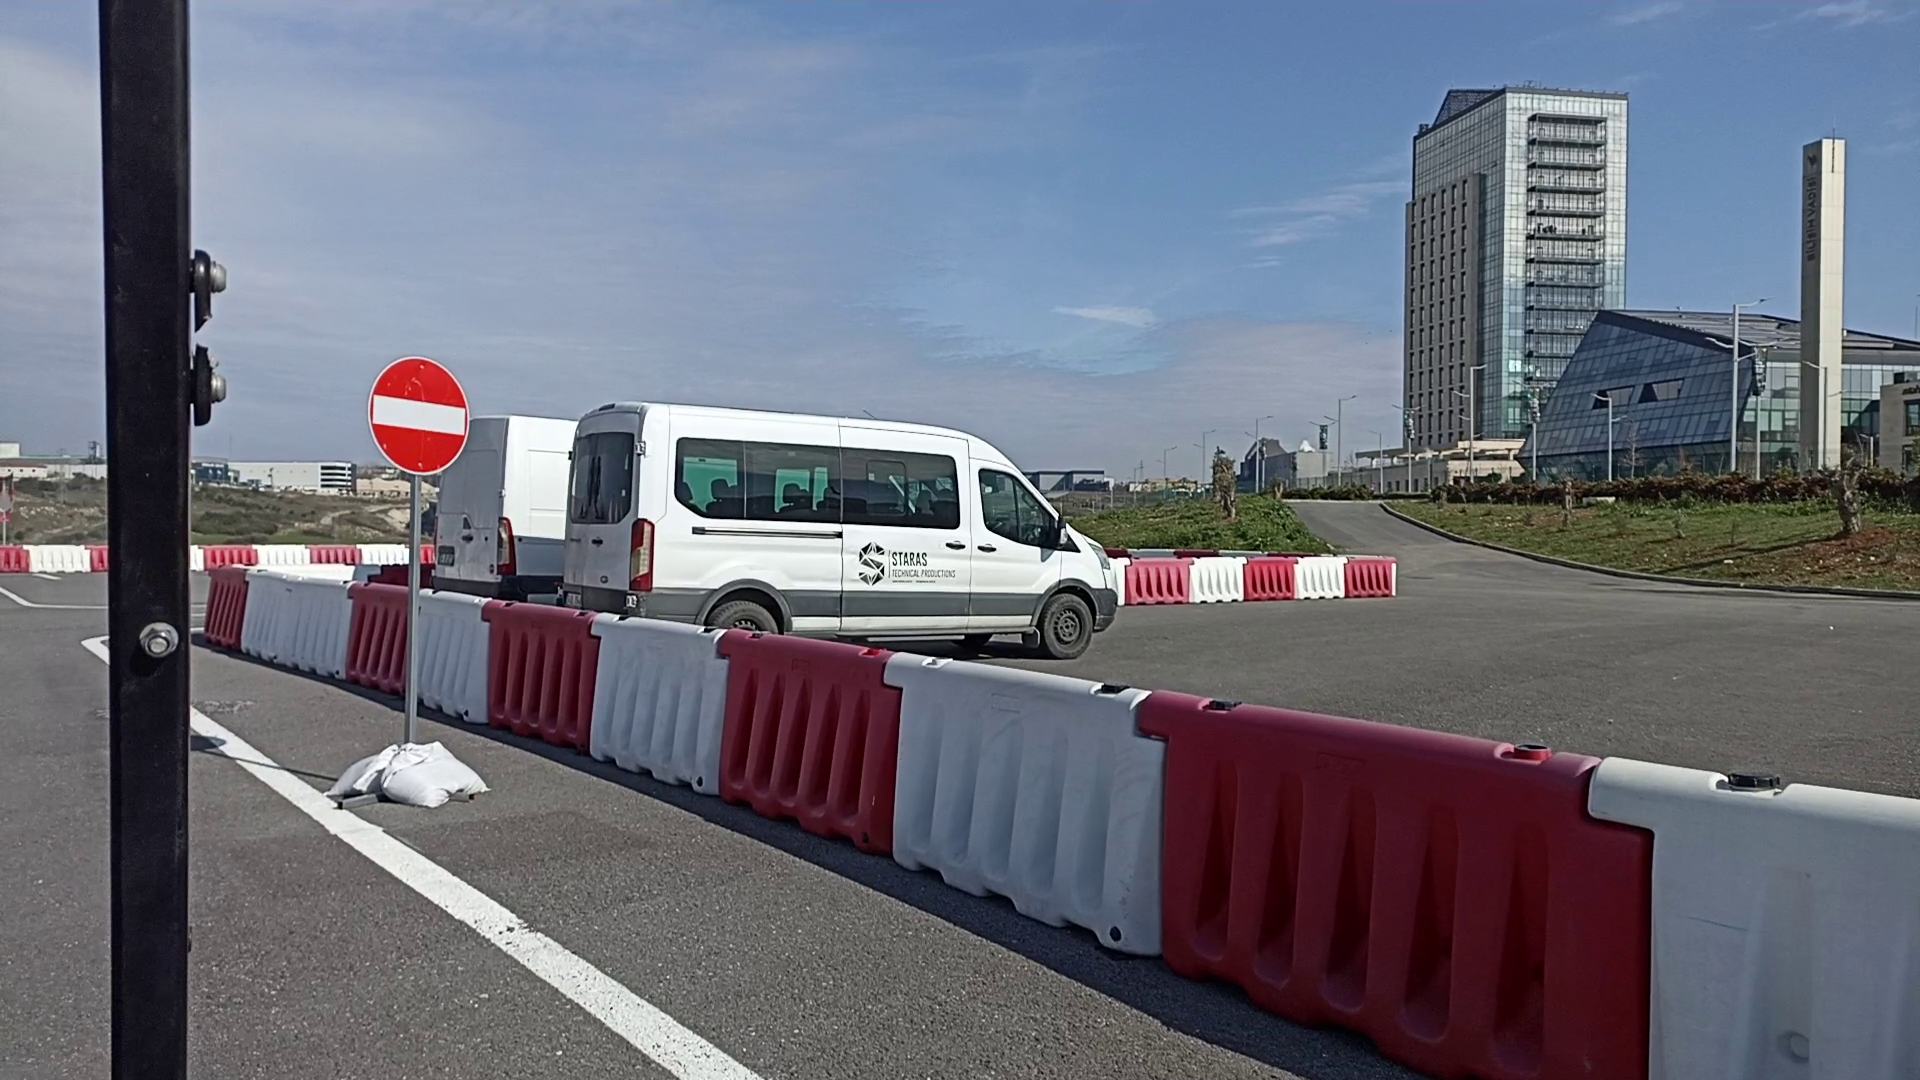noentryway: (365, 353, 473, 473)
